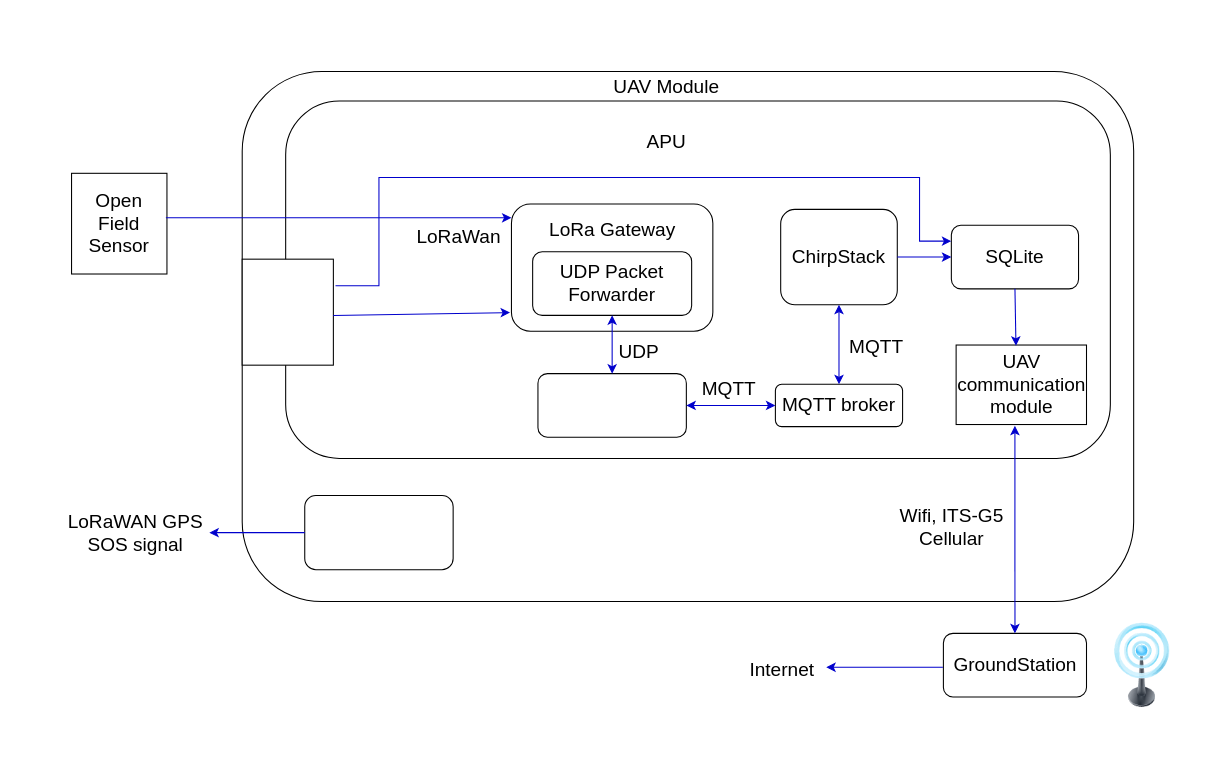
This 1223x757 diagram has some shape labels left out. The box of each missing label's shape, as (x1, y1, x2, y2) in pixels:
ChirpStack gateway bridge: (537, 373, 686, 437)
PyCom: (304, 494, 453, 570)
UAV Sensor: (241, 258, 333, 365)
